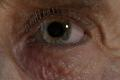eye: (40, 18, 71, 43)
